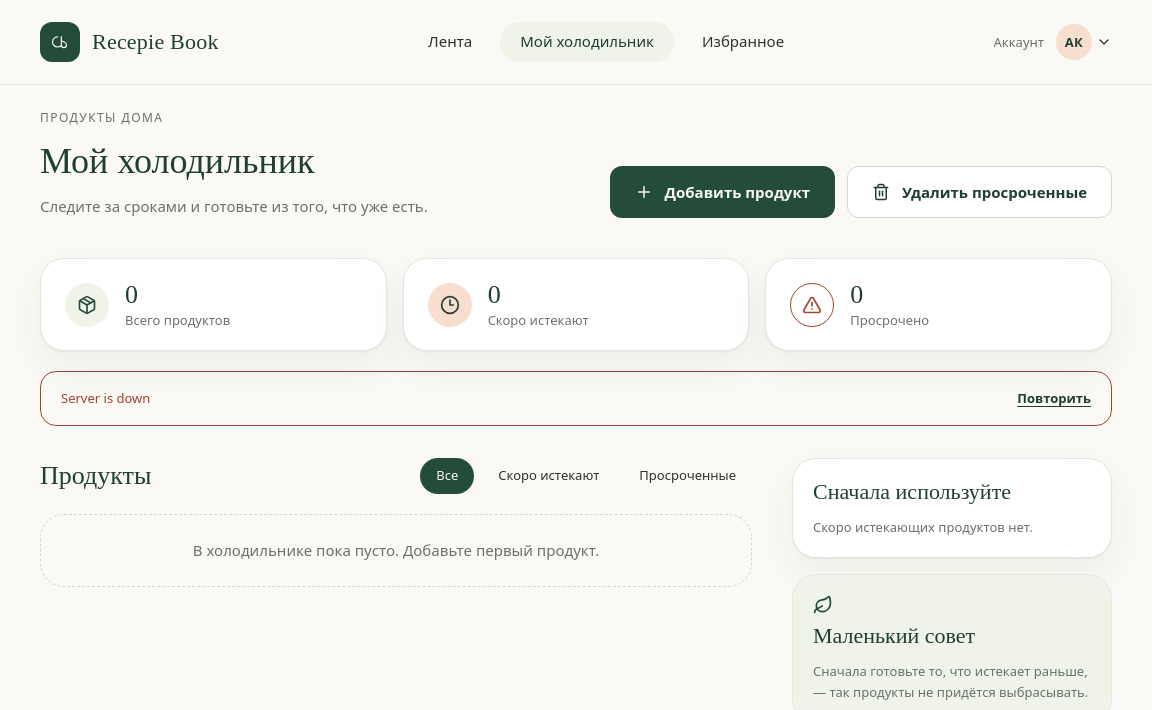
Test case: fridge page › shows a load error and retries
Check: the message "Server is down Повторить" is shown, box top-left (40, 371), bottom-right (1112, 426)
Click the button "Повторить" at (1054, 398), box top-left (1017, 388), bottom-right (1091, 408)
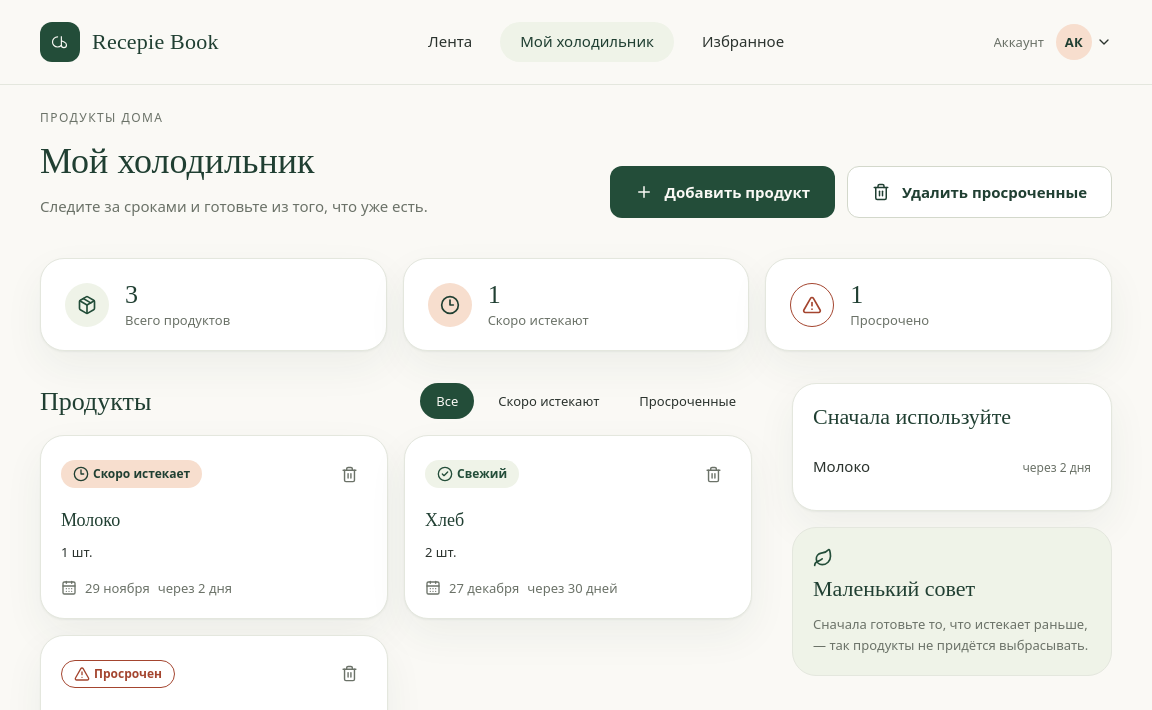
Check: the heading "Молоко" is shown, box top-left (61, 510), bottom-right (120, 530)
